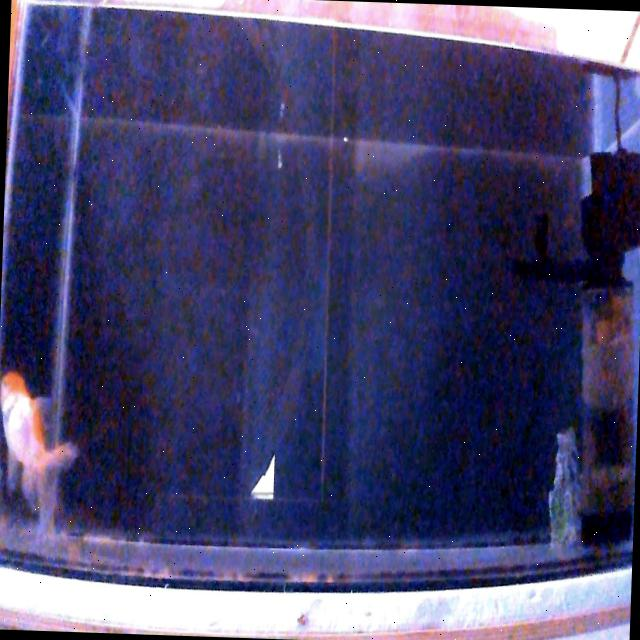fish: (0, 369, 80, 524)
